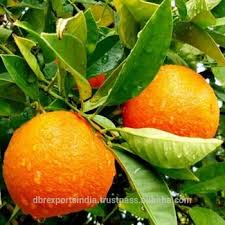orange: (3, 106, 116, 214), (118, 60, 221, 153)
